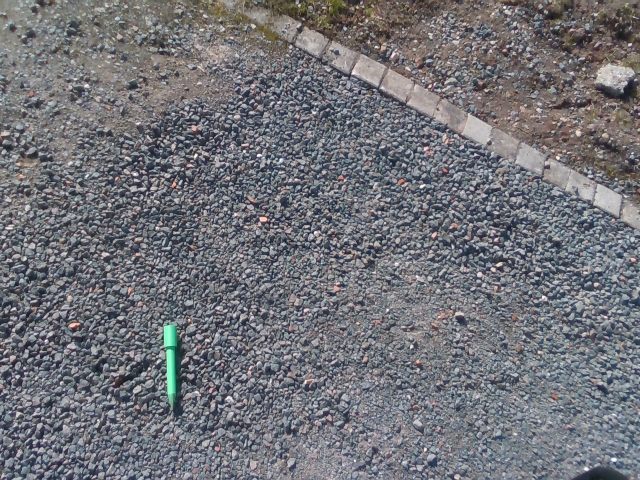Probe: (160, 322, 182, 417)
